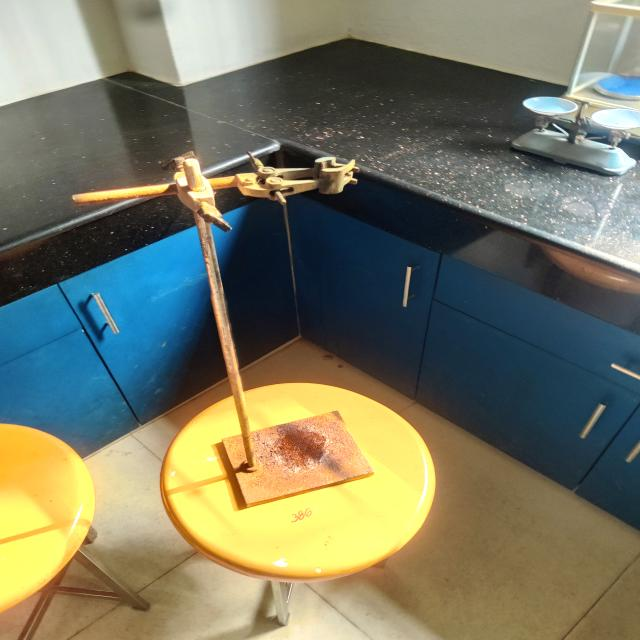Burette_Stands: (45, 120, 422, 538)
